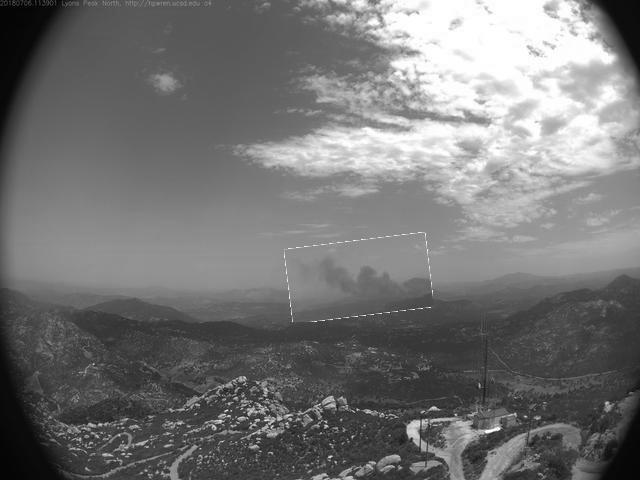smoke: (287, 237, 433, 320)
